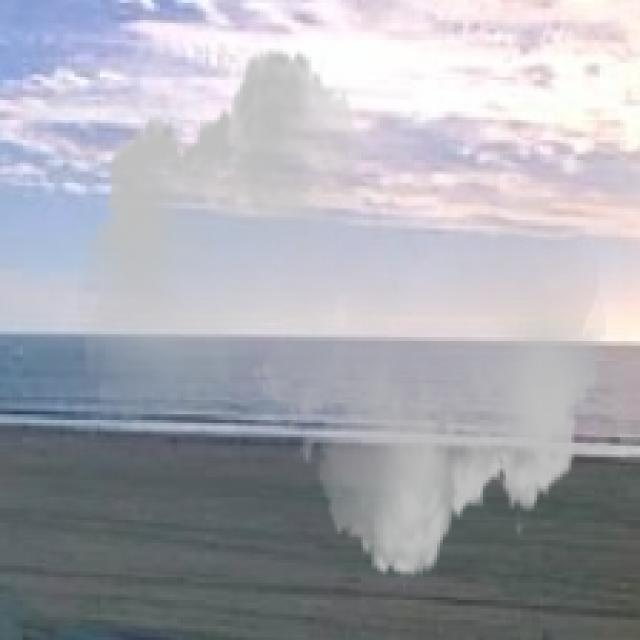smoke: (77, 32, 606, 594)
